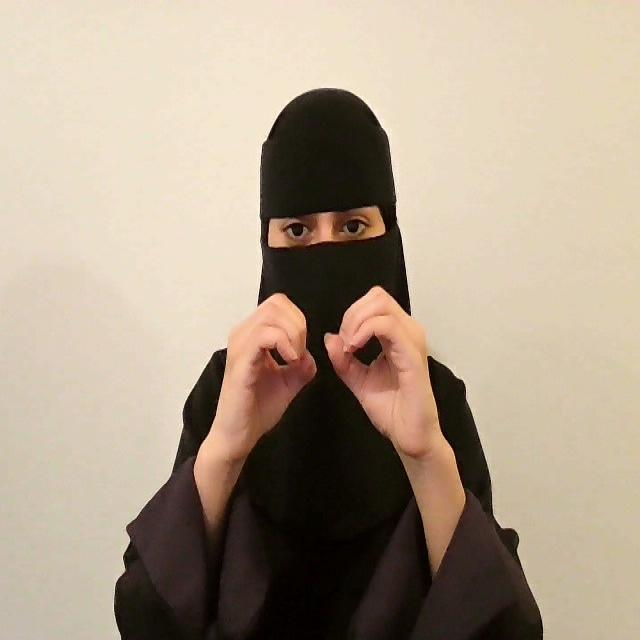analysis: (211, 284, 452, 454)
